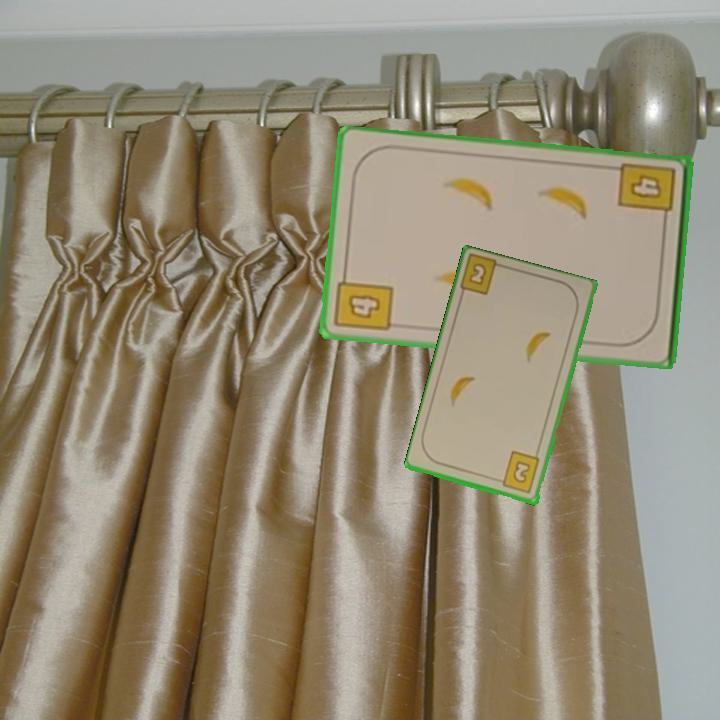2b: (494, 448, 543, 496), (465, 260, 489, 288)
4b: (331, 267, 396, 335), (615, 159, 679, 228)
